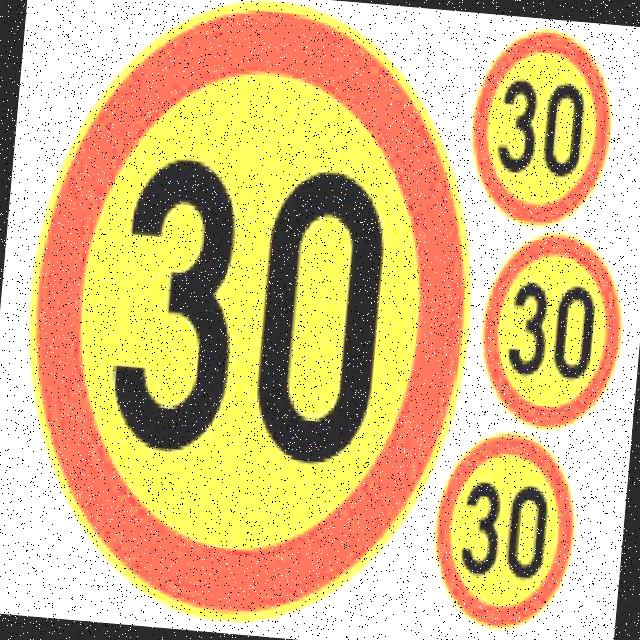Ograniczenie predkosci do 30: (12, 0, 486, 640), (467, 16, 629, 231), (473, 230, 631, 440), (428, 434, 584, 636)
